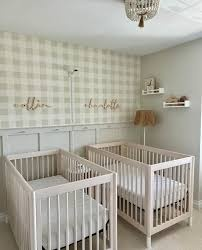crib: (86, 142, 194, 247), (5, 150, 116, 249)
